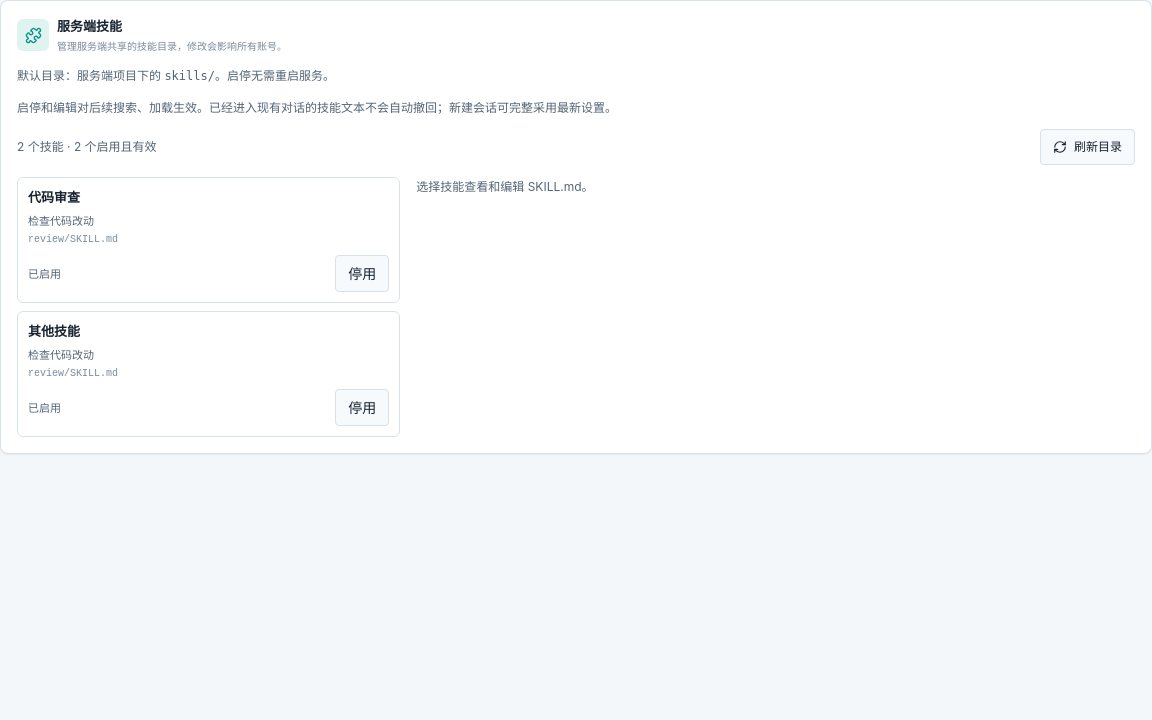
server skills settings › refreshes a changed catalog without replacing a dirty draft or silently switching skills
Click the button with aria-label "编辑技能 代码审查" at (54, 197), box 28,188 -> 389,245
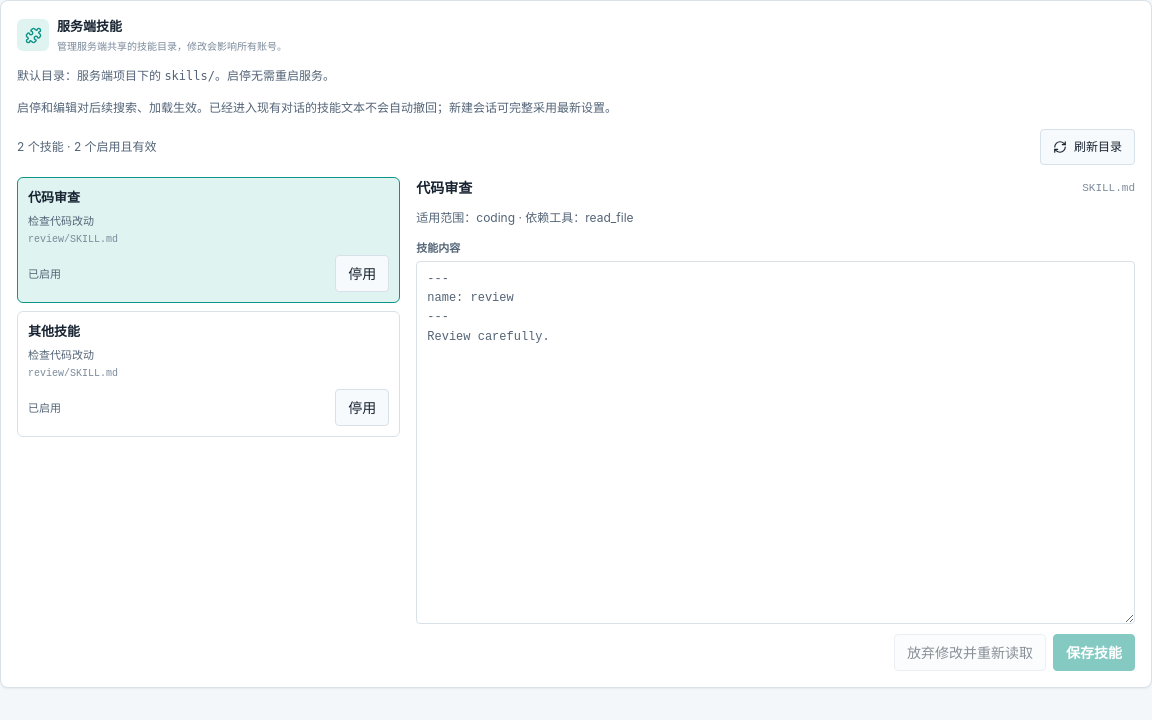
Type "unsaved draft" into the text box named "技能 review 内容" at (776, 443), box 416,261 -> 1135,624
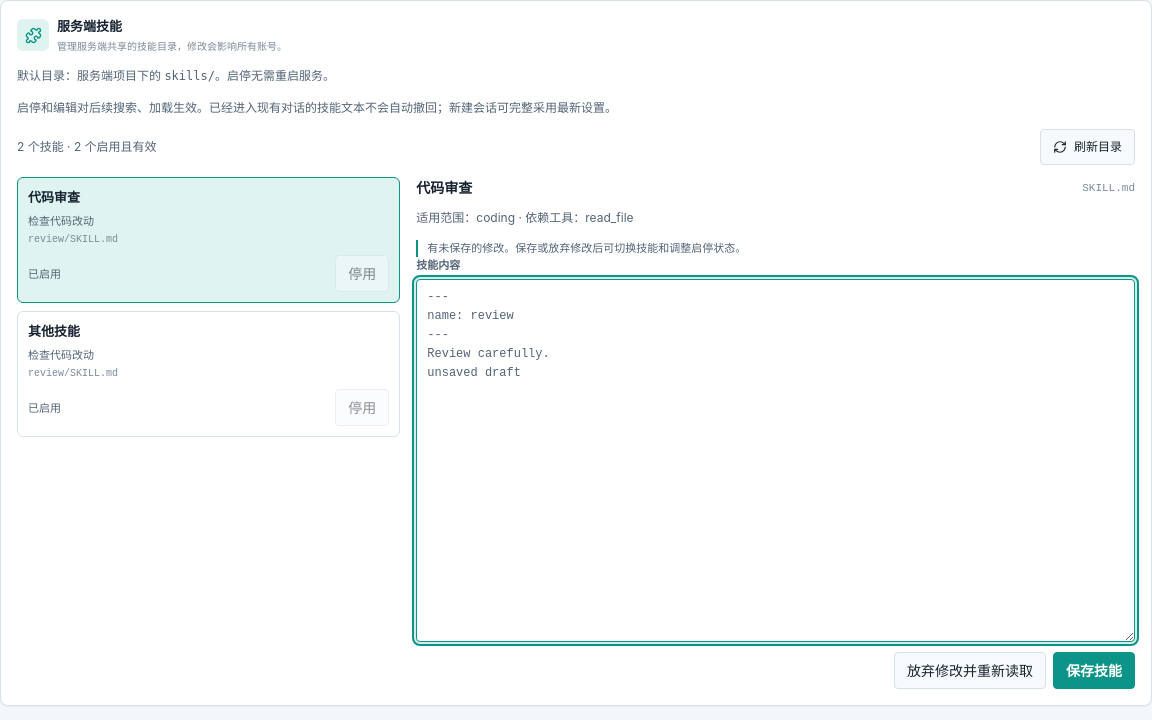
Expected: the button with aria-label "编辑技能 其他技能" is disabled, 28,322 -> 389,379
Now the button with aria-label "停用 代码审查" is disabled, box 335,255 -> 389,292
Click the button "刷新目录" at (1088, 147), box 1040,129 -> 1135,165
(page scrolled)
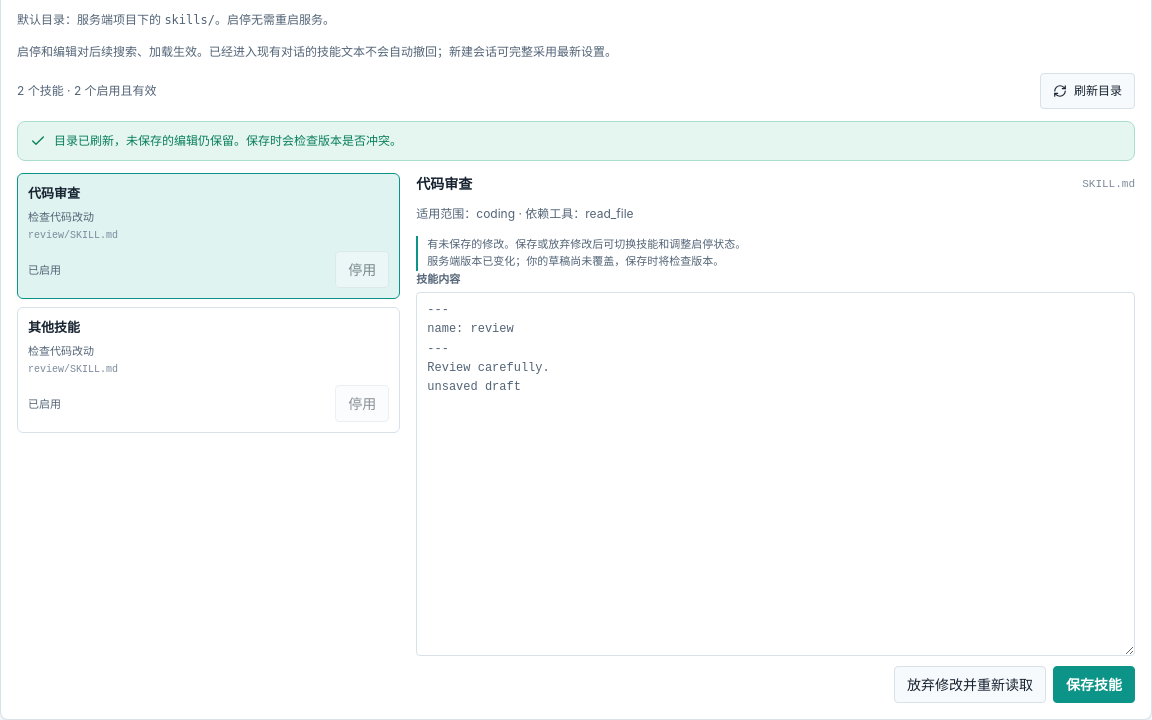
Now the text "目录已刷新，未保存的编辑仍保留。保存时会检查版本是否冲突。" is shown, box 54,132 -> 402,150
Click the button "放弃修改并重新读取" at (970, 684), box 894,666 -> 1046,703
(page scrolled)
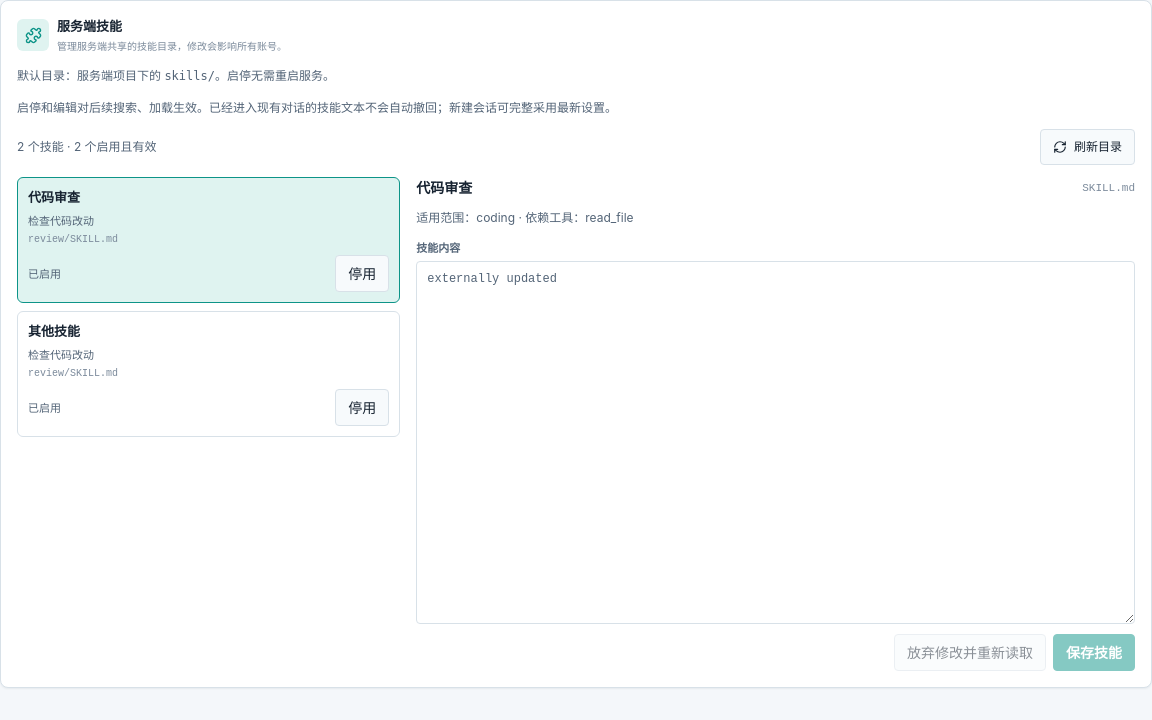
Now the text box named "技能 review 内容" holds "externally updated", box 416,261 -> 1135,624
Now the button with aria-label "编辑技能 其他技能" is enabled, box 28,322 -> 389,379
